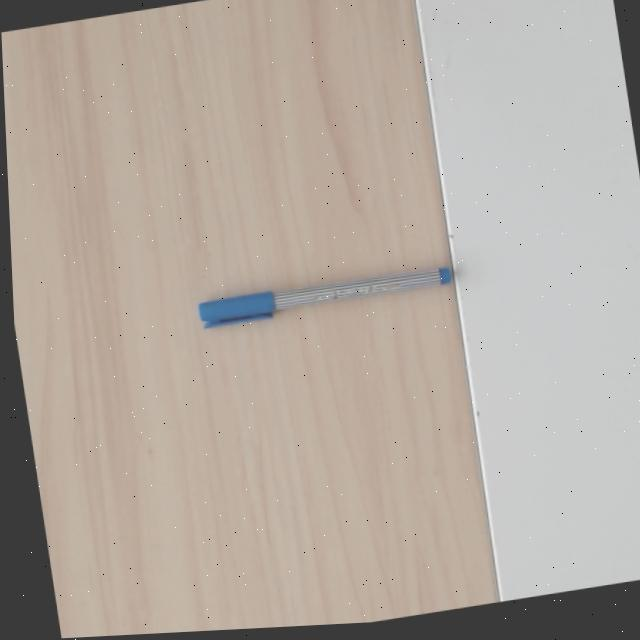Pulpen-Garis-Biru: (194, 262, 452, 330)
